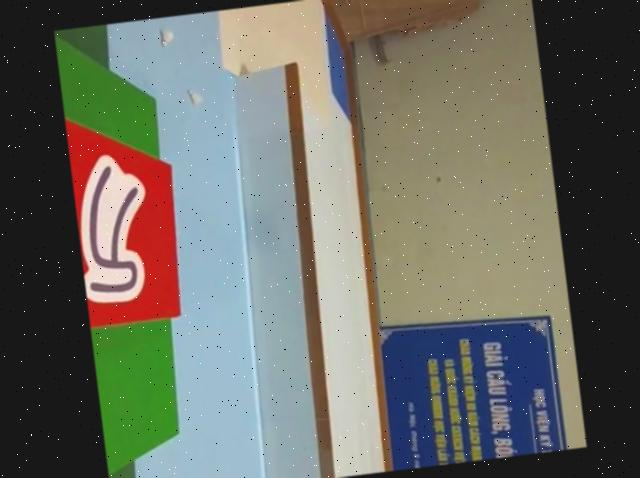R2 Fake: (62, 81, 192, 328)
